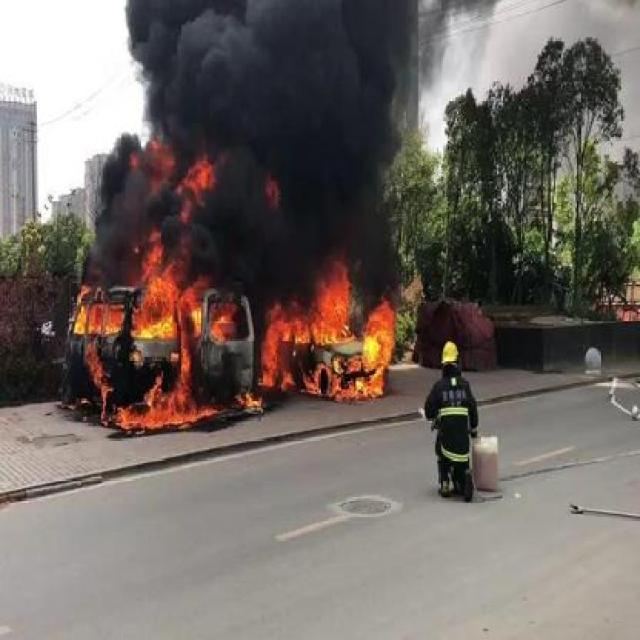Fire: (60, 248, 414, 441)
Smoke: (102, 7, 434, 248)
